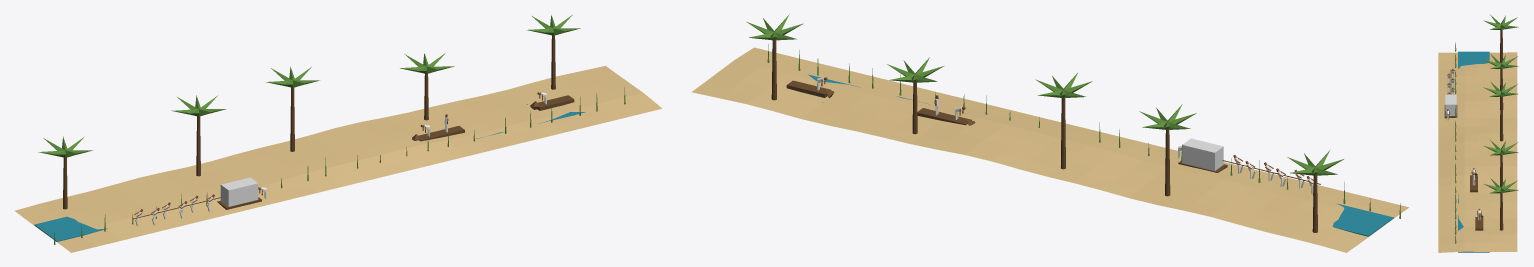
The model's file is egipto_bg_near.fbx.
3 renders of one model, left to right at view 1: azimuth 30°, elevation 25°; view 2: azimuth 150°, elevation 25°; view 3: azimuth 270°, elevation 25°, orthographic. The views are drawn at different scales.
Parts seen in each view (by area): view 1: egipto_bg_near; view 2: egipto_bg_near; view 3: egipto_bg_near.
Part boxes in pixels (x1=…): egipto_bg_near: x1=14, y1=14, x2=661, y2=252; egipto_bg_near: x1=691, y1=14, x2=1409, y2=252; egipto_bg_near: x1=1438, y1=14, x2=1518, y2=252.
Bounding box in the file's own units: 60.49 × 7.96 × 10.29.
